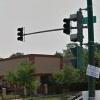Traffic light: (58, 10, 84, 35)
